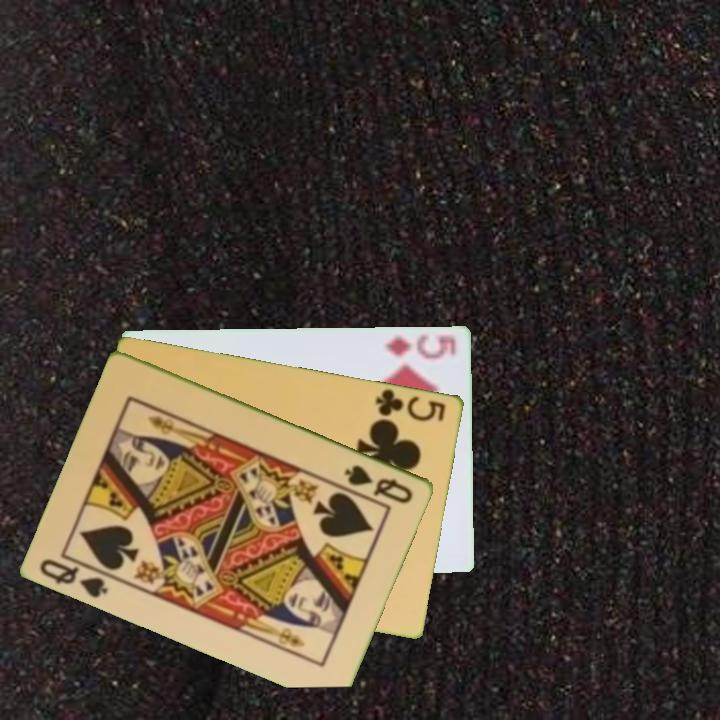5c: (373, 385, 449, 424)
5d: (382, 331, 459, 361)
Qs: (36, 551, 118, 601), (341, 461, 416, 507)
